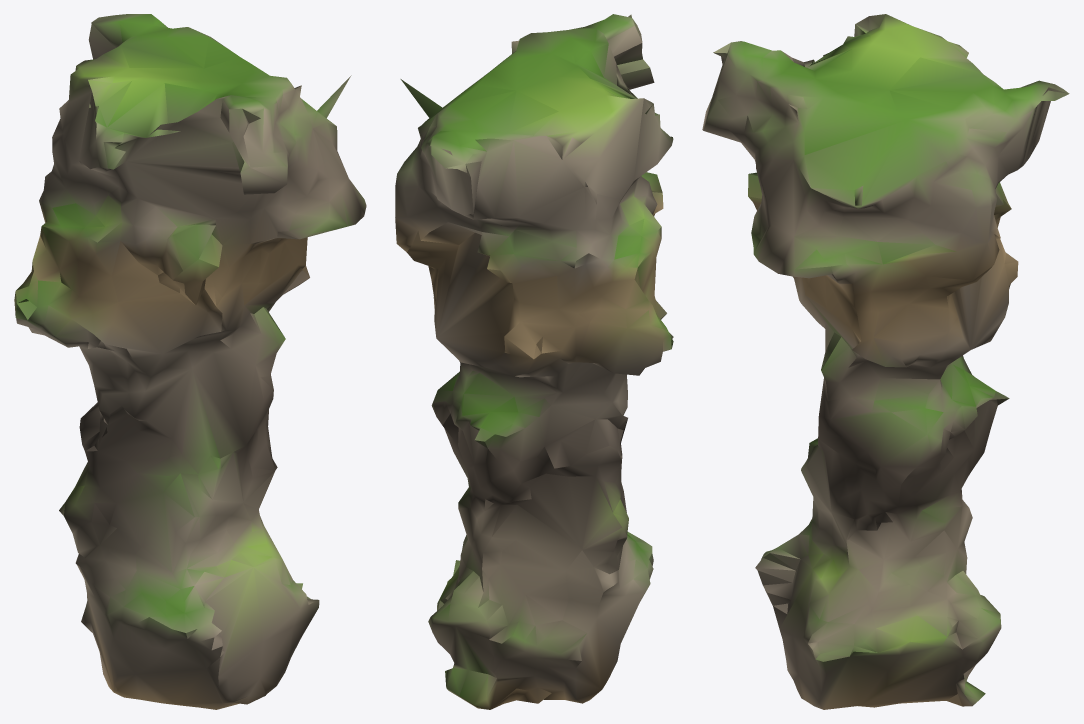
Rendered from glade_cliff_pillar_lod1.glb.
3 renders of one model, left to right at view 1: azimuth 30°, elevation 25°; view 2: azimuth 150°, elevation 25°; view 3: azimuth 270°, elevation 25°, orthographic. The views are drawn at different scales.
Visible parts, largest first — view 1: glade_cliff_pillar.001; view 2: glade_cliff_pillar.001; view 3: glade_cliff_pillar.001.
Part boxes in pixels (x1,y1,x2,y2): glade_cliff_pillar.001: [14, 14, 366, 709]; glade_cliff_pillar.001: [395, 14, 673, 709]; glade_cliff_pillar.001: [702, 14, 1069, 709].
Bounding box in the file's own units: 8 × 15.82 × 8.22.
